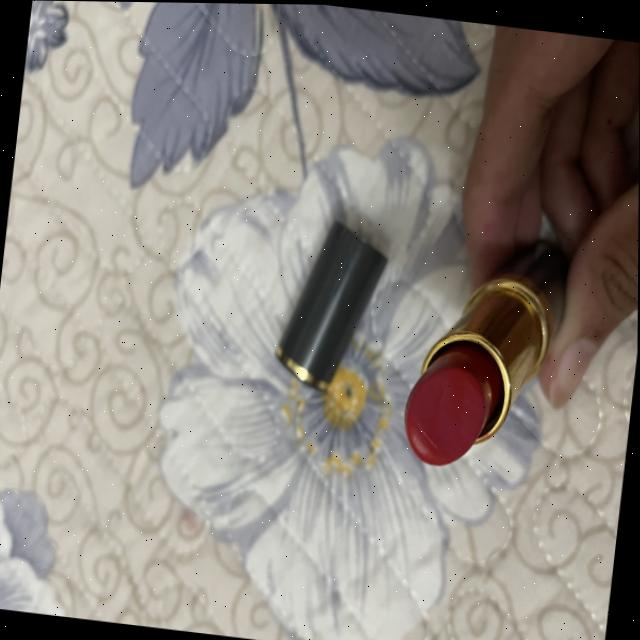lip stick: (372, 203, 578, 503)
